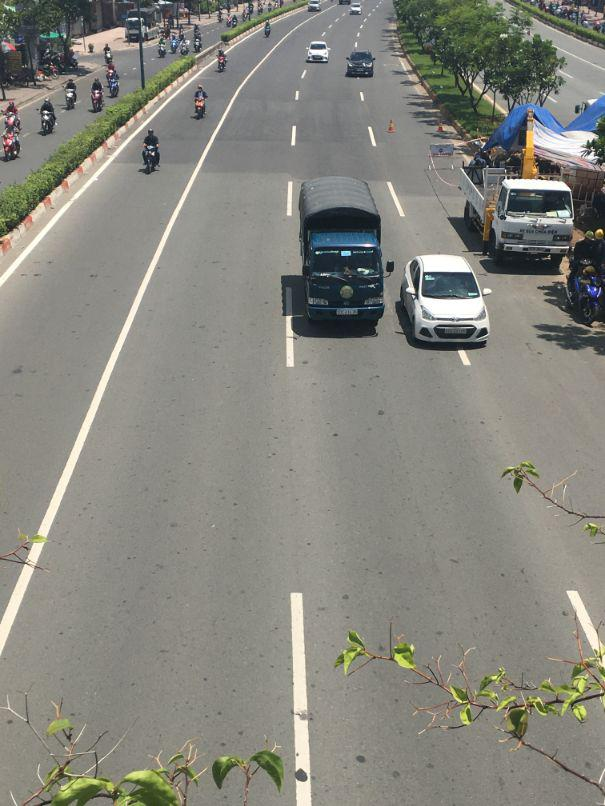car: (395, 253, 492, 349), (346, 51, 375, 80), (307, 41, 328, 65), (349, 1, 362, 14), (308, 0, 322, 11)
motorbike: (563, 227, 605, 329), (3, 131, 22, 163), (142, 143, 161, 174), (41, 102, 57, 133), (193, 89, 206, 120), (91, 78, 103, 110), (65, 81, 78, 109), (109, 69, 119, 97)
truck: (298, 175, 387, 330), (457, 157, 576, 268), (124, 1, 168, 45)
